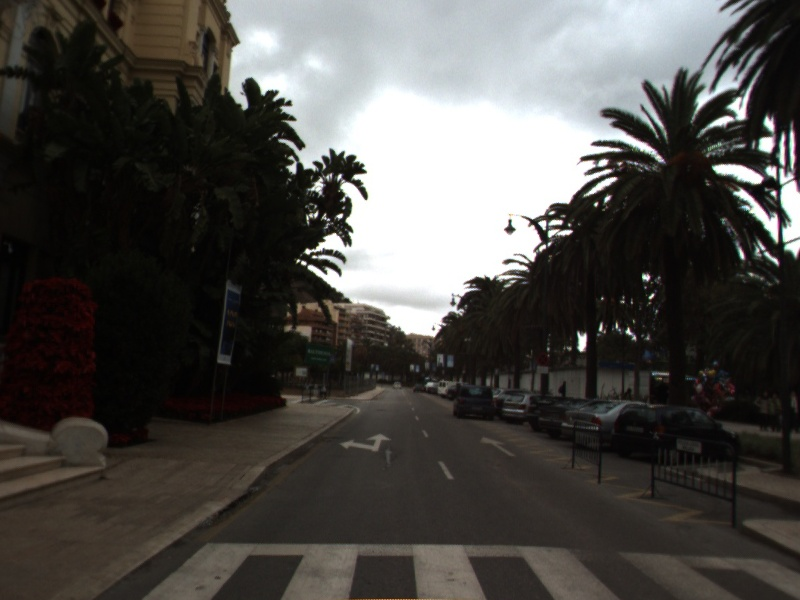STRAIGHT: (478, 434, 519, 458)
STRAIGHT_LEFT: (337, 431, 394, 454)
